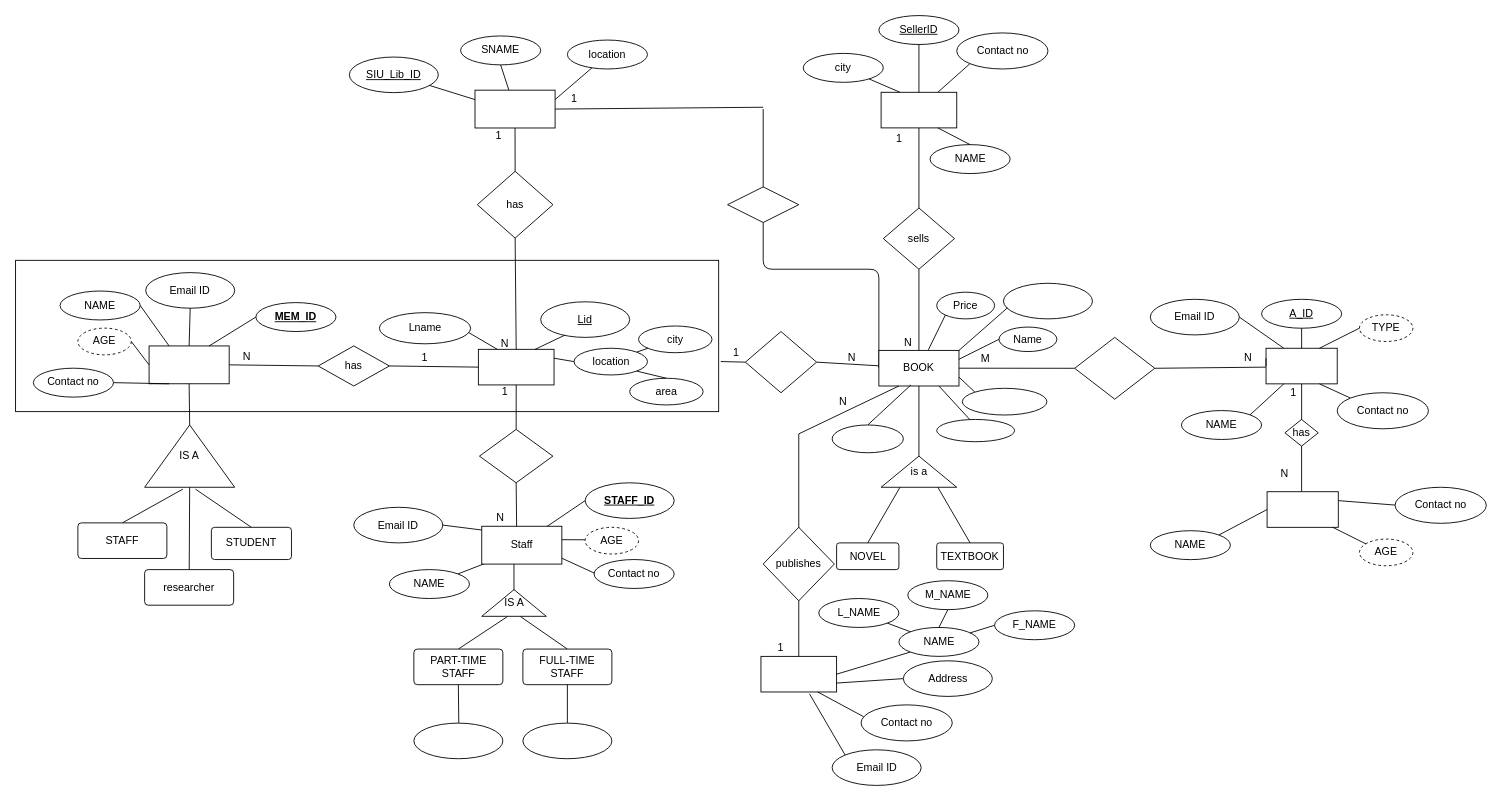
The diagram is 1502 pixels wide and 801 high, and some of its shapes have lost their labels. The centre of each missing label's shape, as x and y in pixels:
Assistant: the point at 1302,509
AUTHOR: the point at 1301,365
Author name: the point at 867,438
Book ID: the point at 975,430
buys: the point at 763,204
employs: the point at 516,456
HOURLY PAYMENT: the point at 458,740
INSTITUTE LIBRARY: the point at 515,366
issues: the point at 780,362
MEMBER: the point at 188,364
MONTHLY SALARY: the point at 567,740
No of copies: the point at 1004,401
PUBLISHER: the point at 798,673
Publisher name: the point at 1047,300
SELLER: the point at 918,109
SIU LIBRARY: the point at 514,108
writes: the point at 1114,368
